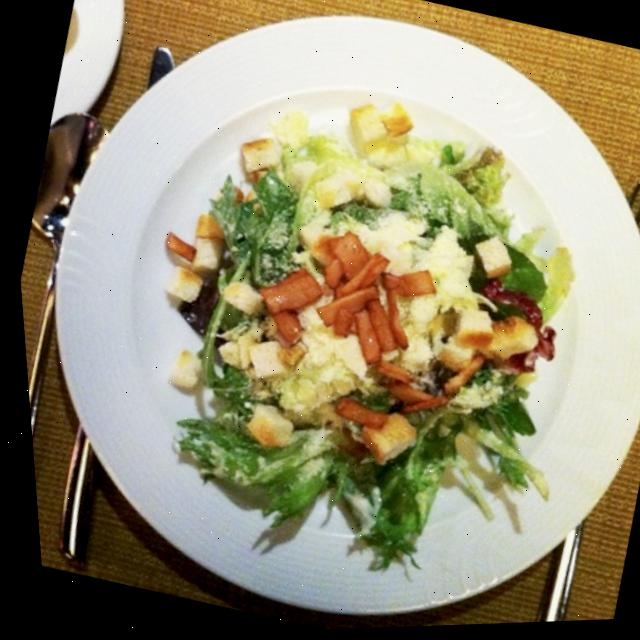蔬菜料理: (74, 40, 637, 615)
